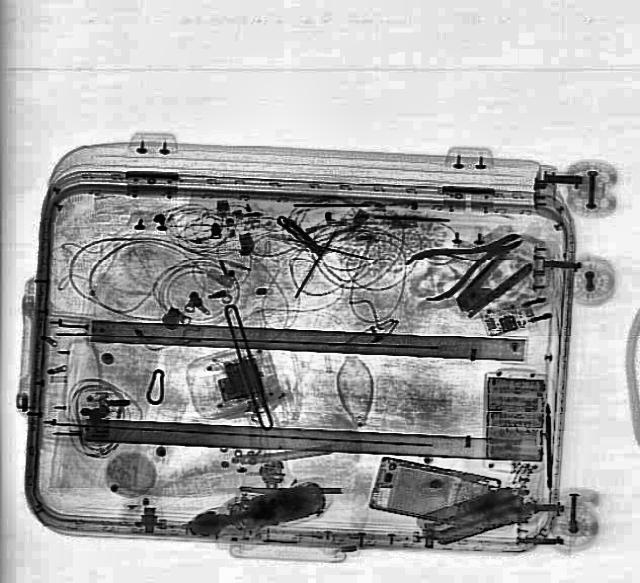Pliers: (402, 219, 534, 303)
